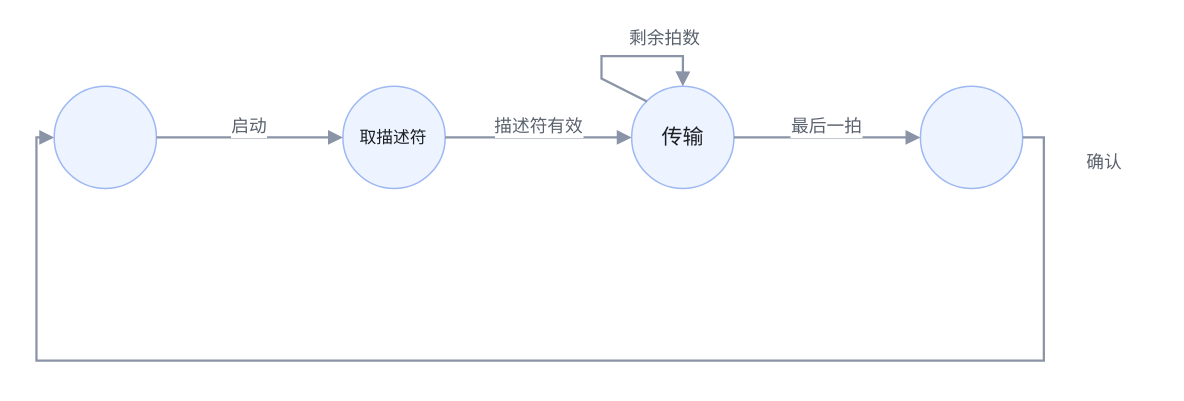
Image size: 1184x401. Some labels were removed from this diagram. The shapes that lost their labels are listed below. From the top down, each one's centre as x and y in pixels, then its label:
point (104, 137): 空闲
point (971, 137): 完成
